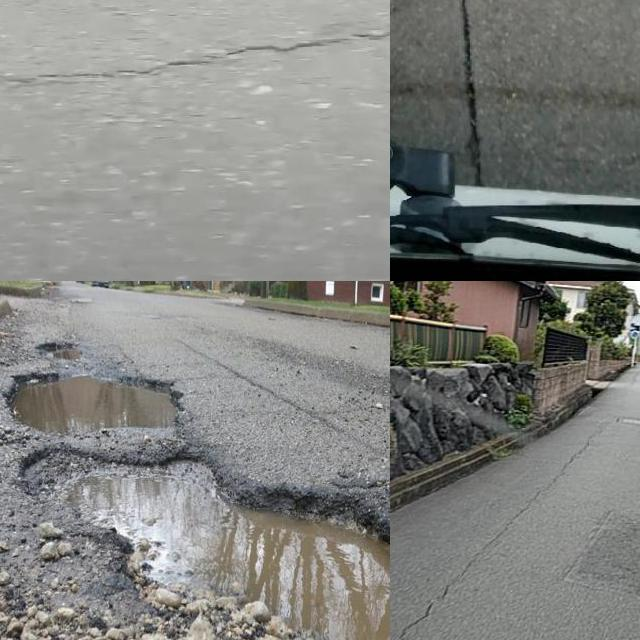Lubang: (25, 450, 390, 640), (3, 366, 185, 437)
Melintang: (0, 15, 390, 99)
Memanjang: (390, 425, 612, 640), (451, 0, 500, 189)
